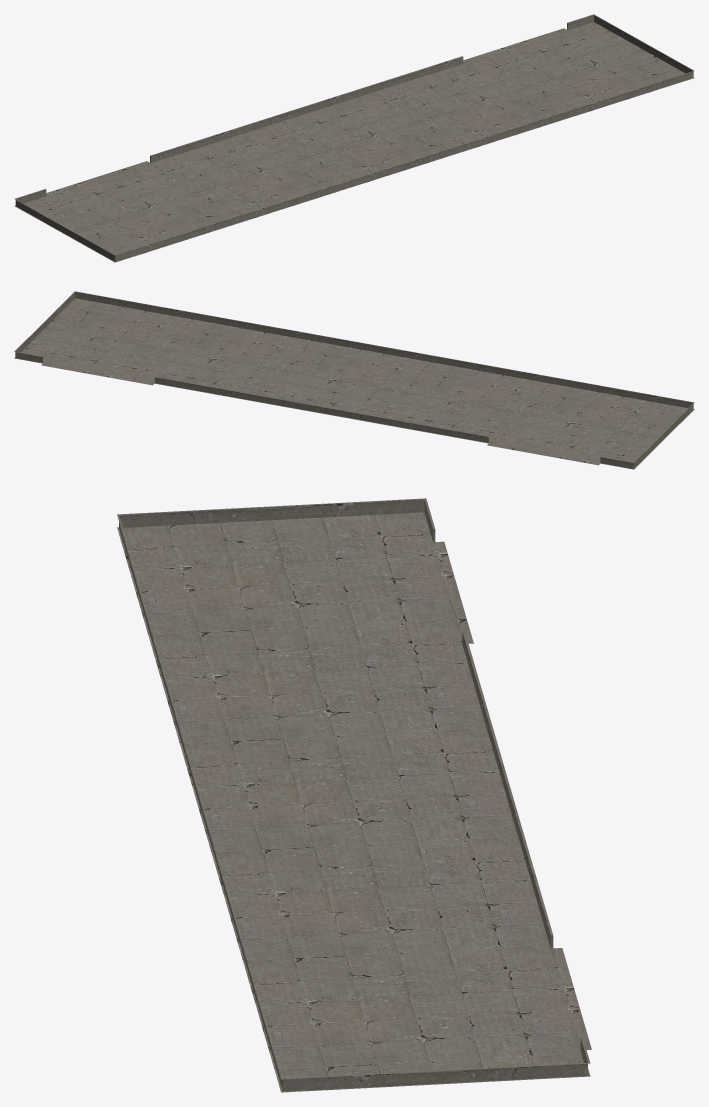
The model's file is Ind_IntFloor.FBX.
The picture shows the model from 3 angles, top to bottom: view 1: azimuth 30°, elevation 25°; view 2: azimuth 150°, elevation 25°; view 3: azimuth 270°, elevation 25°; orthographic projection. The views are drawn at different scales.
Parts seen in each view (by area): view 1: Ind_IntFloor; view 2: Ind_IntFloor; view 3: Ind_IntFloor.
Part boxes in pixels (x1=…): Ind_IntFloor: x1=14, y1=14, x2=694, y2=262; Ind_IntFloor: x1=14, y1=291, x2=694, y2=469; Ind_IntFloor: x1=117, y1=498, x2=591, y2=1092.
Bounding box in the file's own units: 1589 × 16.59 × 549.
